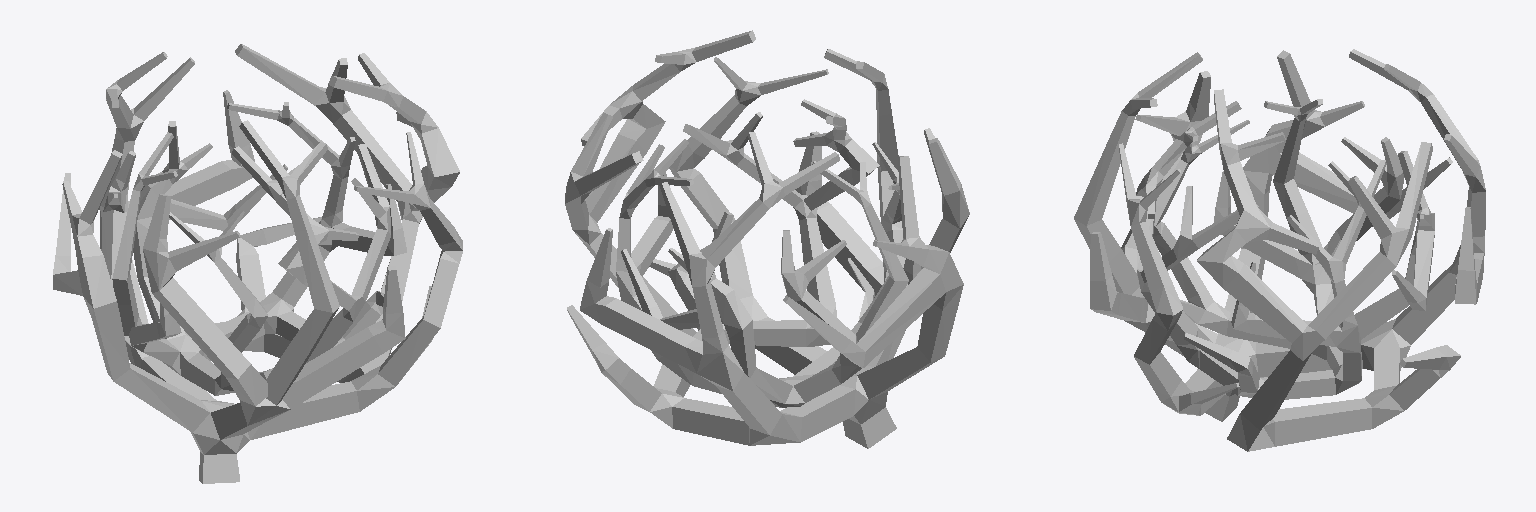
Rendered from tumbleweed2.obj.
3 renders of one model, left to right at view 1: azimuth 30°, elevation 25°; view 2: azimuth 150°, elevation 25°; view 3: azimuth 270°, elevation 25°, orthographic.
Parts seen in each view (by area): view 1: Tumbleweed.001_Vert.001; view 2: Tumbleweed.001_Vert.001; view 3: Tumbleweed.001_Vert.001.
Boxes of the visible parts, x1=… form: Tumbleweed.001_Vert.001: x1=53, y1=44, x2=462, y2=483; Tumbleweed.001_Vert.001: x1=565, y1=30, x2=969, y2=448; Tumbleweed.001_Vert.001: x1=1074, y1=49, x2=1485, y2=451.
Bounding box in the file's own units: 0.1541 × 0.156 × 0.1537.